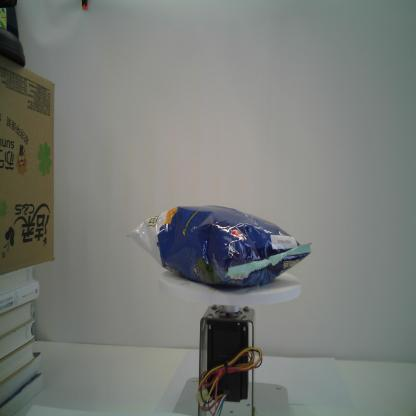Puffed Food: (126, 202, 313, 289)
